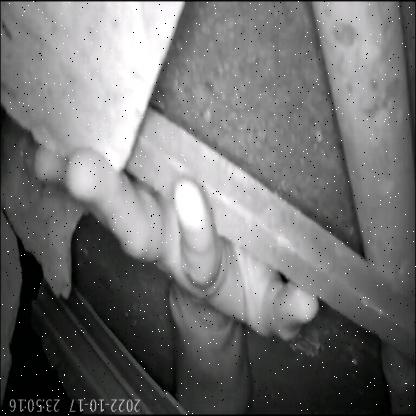hand: (8, 132, 339, 416)
